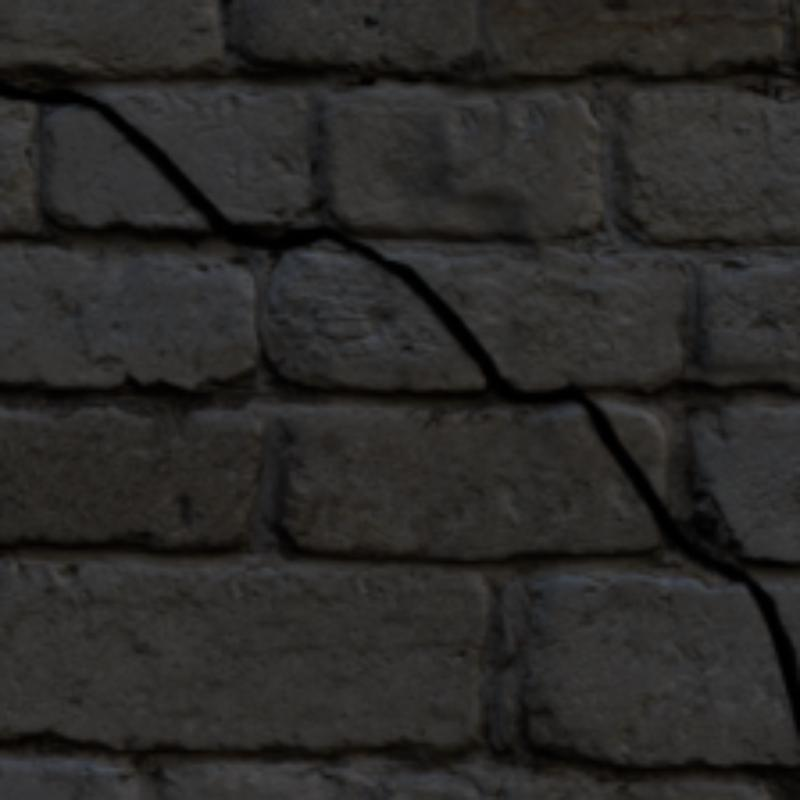pothole: (0, 82, 796, 732)
